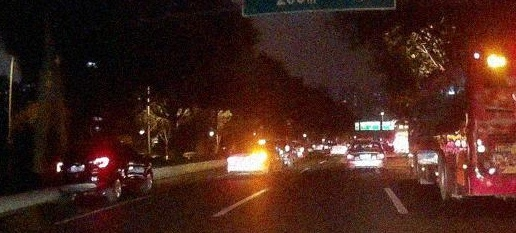L_light: (57, 162, 64, 172), (347, 154, 354, 159), (227, 158, 234, 162)
R_light: (93, 156, 110, 168), (258, 156, 268, 160), (377, 154, 385, 159)
T_light: (79, 146, 88, 148), (245, 143, 252, 145), (365, 142, 371, 144)
night-no: (56, 143, 113, 201), (346, 139, 386, 172)
night-right: (226, 142, 270, 176)
